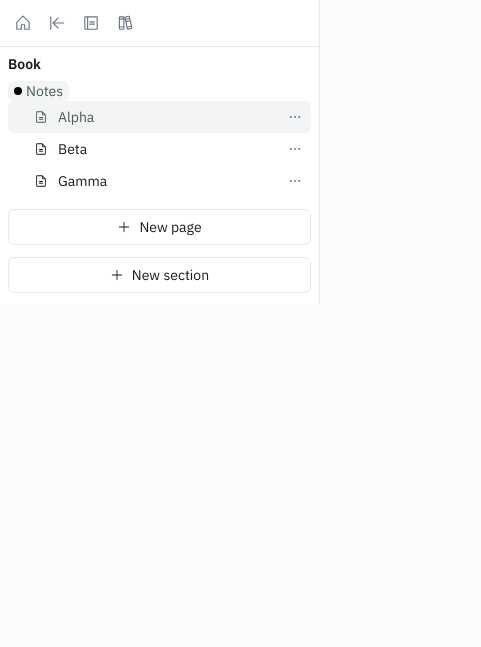
Sidebar page actions › the page actions button opens the page menu without a right-click
The width and height of the screenshot is (481, 647).
Click the 2nd button named "Page actions": click(295, 149) [279,133,311,165]
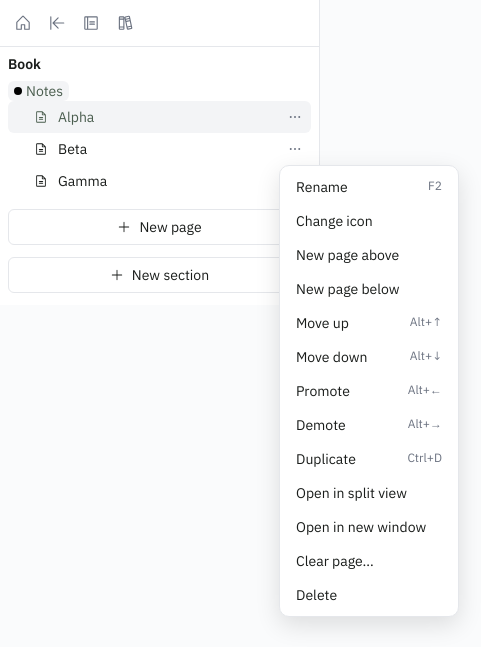
Expected: the menu item "Delete" is shown, [284,578,454,612]
Expected: the menu item "Move up Alt+↑" is shown, [284,306,454,340]
